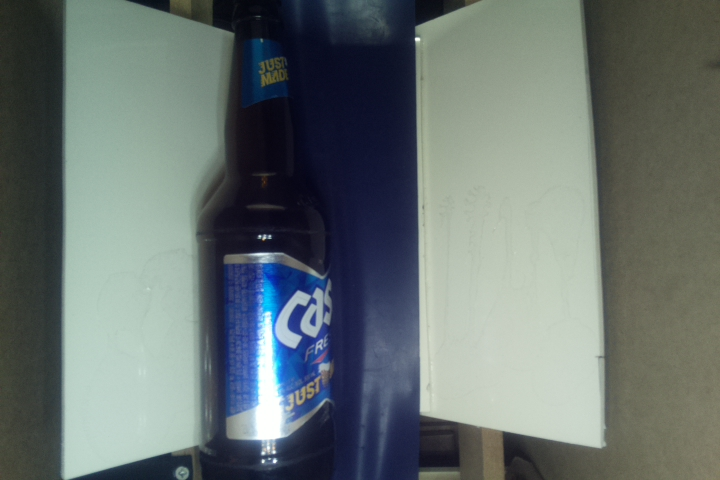makju: (195, 6, 346, 480)
